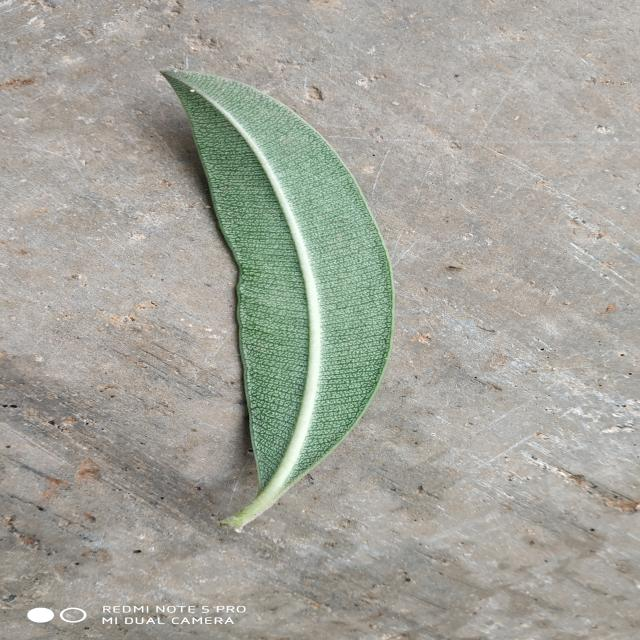ganigale: (162, 71, 393, 531)
